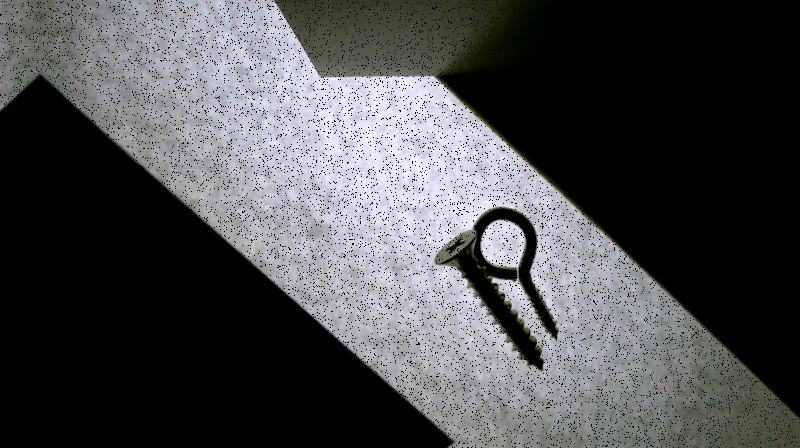O001: (468, 206, 561, 342)
S001: (432, 225, 546, 372)
